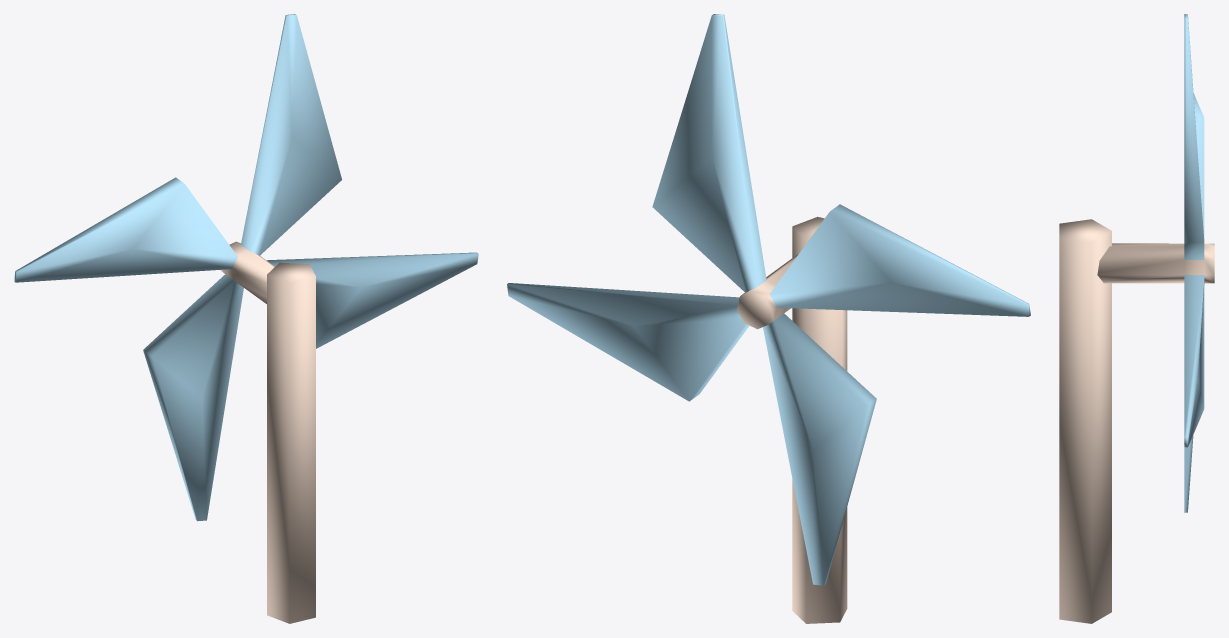
Rendered from Propeller.glb.
3 renders of one model, left to right at view 1: azimuth 30°, elevation 25°; view 2: azimuth 150°, elevation 25°; view 3: azimuth 270°, elevation 25°, orthographic. The views are drawn at different scales.
Visible parts, largest first — view 1: Propeller, Post; view 2: Propeller, Post; view 3: Post, Propeller.
Boxes of the visible parts, box(x1,y1,x2,y2) form: Propeller: box(14, 14, 478, 521); Post: box(267, 262, 315, 623); Propeller: box(507, 14, 1030, 585); Post: box(792, 216, 847, 623); Post: box(1059, 219, 1111, 623); Propeller: box(1097, 14, 1214, 512).
Size of the model in its own units: 1.3 by 1.49 by 0.337.
1 material, 1 textured.
